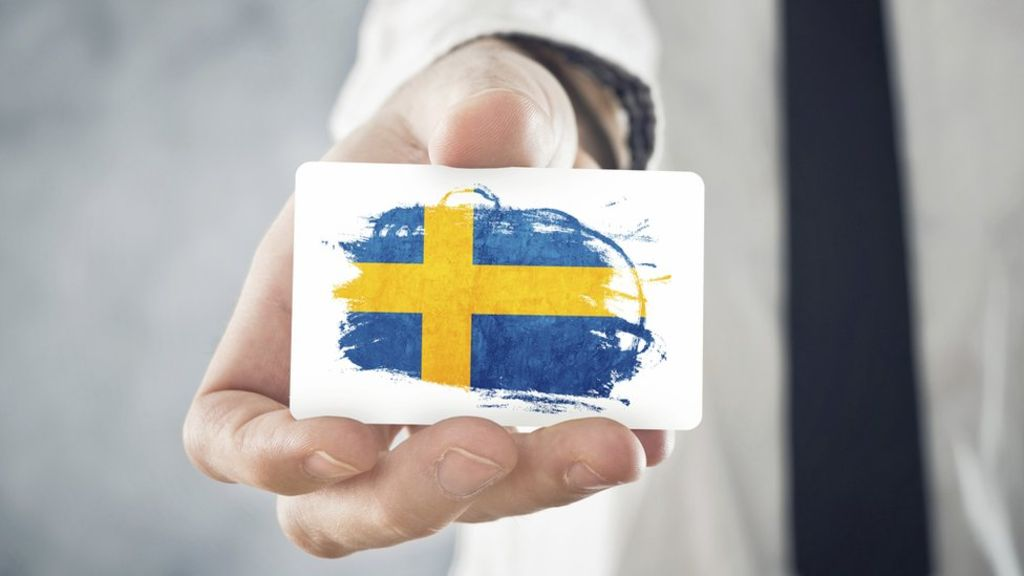tarjeta: (286, 159, 706, 434)
